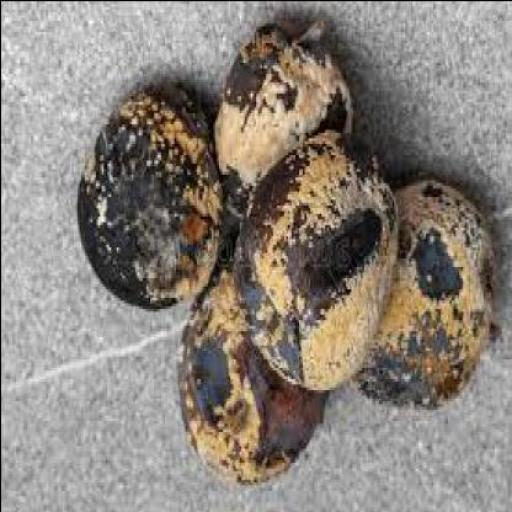biodegradable: (232, 132, 392, 398), (177, 249, 324, 487), (352, 174, 497, 411), (72, 89, 222, 313), (210, 20, 356, 215)
